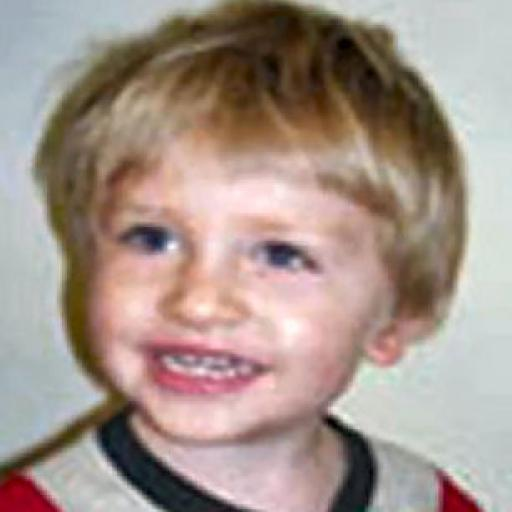Autism: (42, 11, 482, 461)
